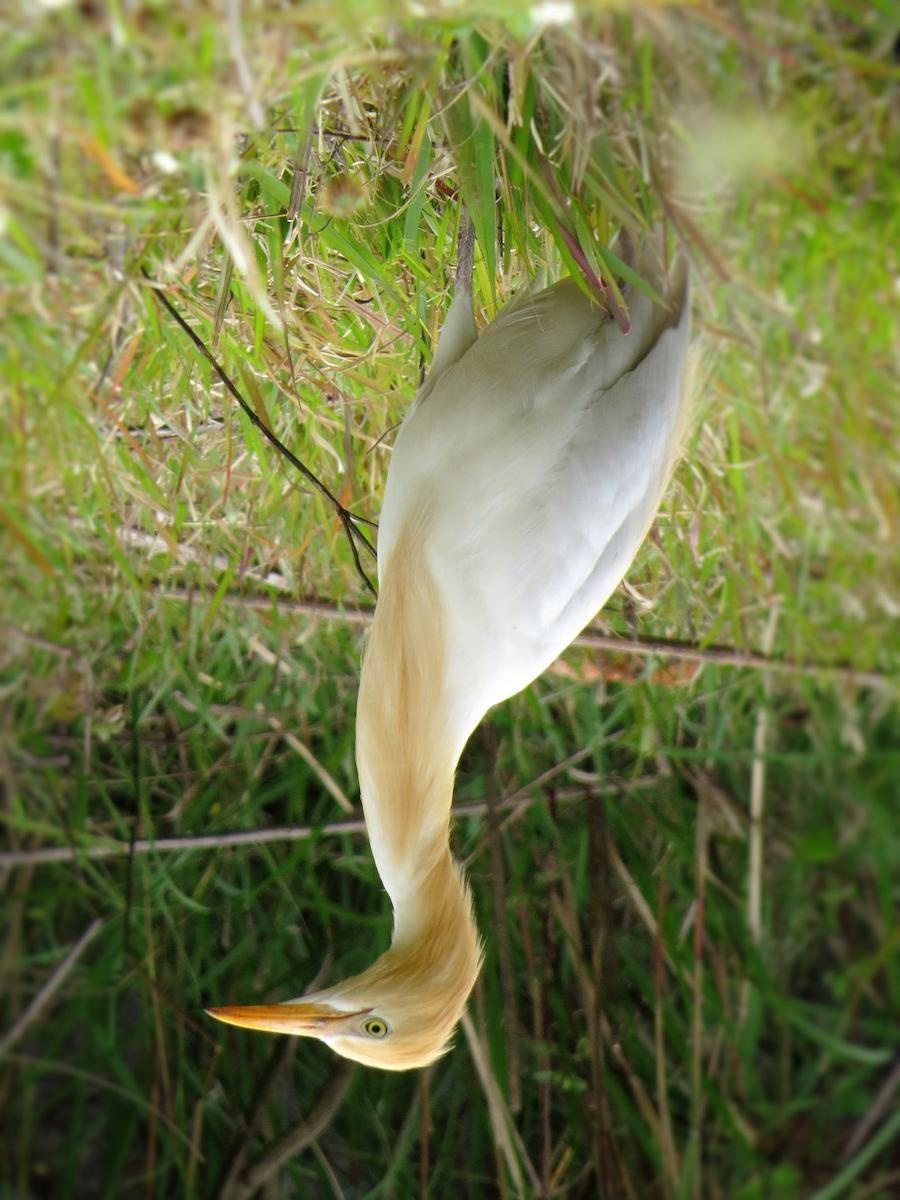egret: (192, 159, 755, 1101)
